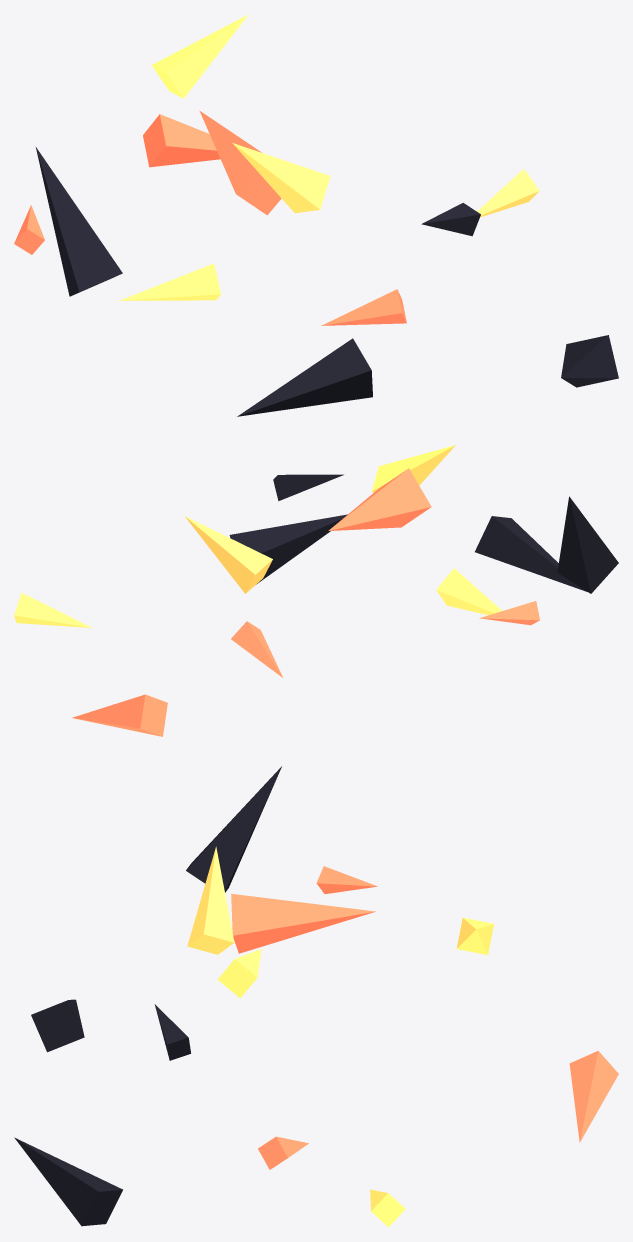
The model's file is fx_pahon_shards_c.glb.
3 renders of one model, top to bottom at view 1: azimuth 30°, elevation 25°; view 2: azimuth 150°, elevation 25°; view 3: azimuth 270°, elevation 25°, orthographic. The views are drawn at different scales.
Parts seen in each view (by area): view 1: fx_pahon_shards_c; view 2: fx_pahon_shards_c; view 3: fx_pahon_shards_c.
Boxes of the visible parts, x1,y1,x2,y2 form: fx_pahon_shards_c: (14, 14, 618, 416); fx_pahon_shards_c: (14, 445, 618, 736); fx_pahon_shards_c: (14, 766, 618, 1227).
Size of the model in its own units: 2.69 by 1.29 by 2.74.
